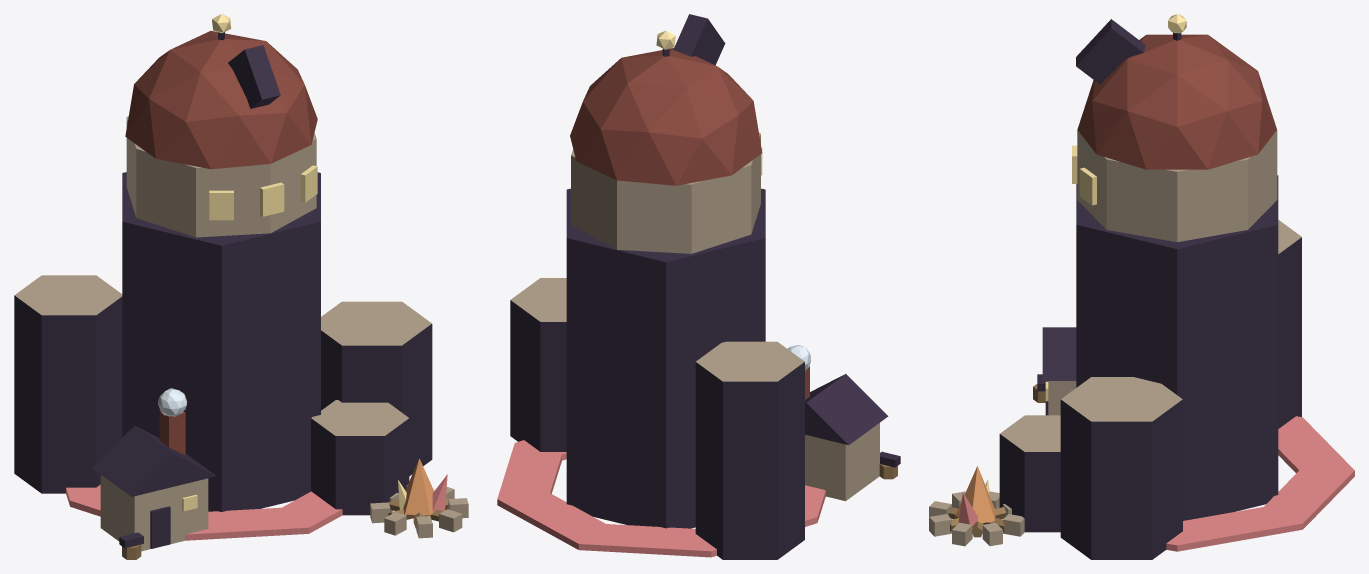
Rendered from volcanic-landmark-s3.glb.
3 renders of one model, left to right at view 1: azimuth 30°, elevation 25°; view 2: azimuth 150°, elevation 25°; view 3: azimuth 270°, elevation 25°, orthographic.
Visible parts, largest first — view 1: volcanic-landmark-s3; view 2: volcanic-landmark-s3; view 3: volcanic-landmark-s3.
Boxes of the visible parts, x1=… form: volcanic-landmark-s3: x1=14, y1=14, x2=468, y2=559; volcanic-landmark-s3: x1=497, y1=14, x2=900, y2=559; volcanic-landmark-s3: x1=929, y1=14, x2=1354, y2=559.
Bounding box in the file's own units: 1.41 × 1.84 × 1.53.
